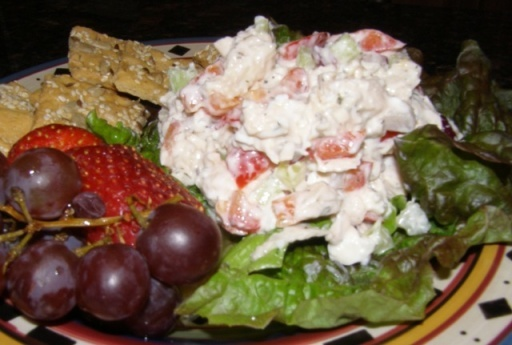background: (0, 7, 410, 182)
